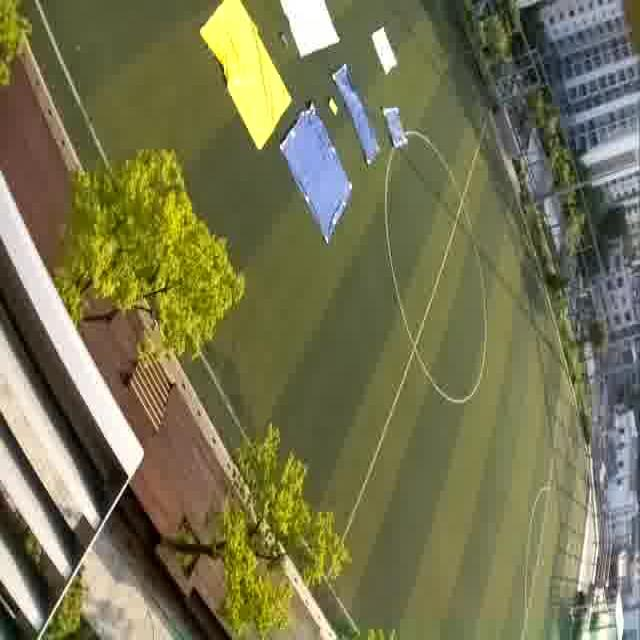danger: (287, 123, 348, 217), (378, 99, 416, 152), (344, 86, 376, 140)
safety: (276, 0, 344, 59), (368, 25, 403, 75)
warning: (208, 11, 282, 136)
